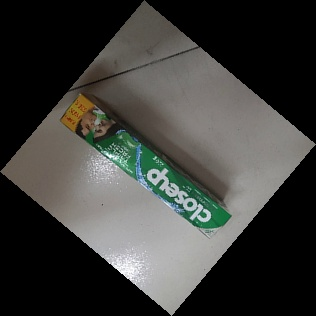CloseUp Xanh: (59, 91, 232, 241)
